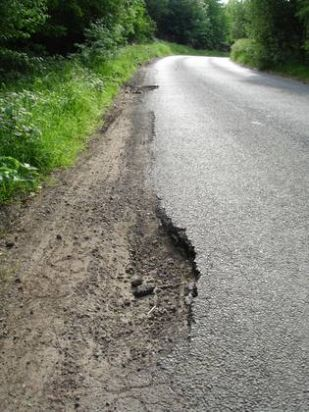pothole: (81, 195, 205, 378)
